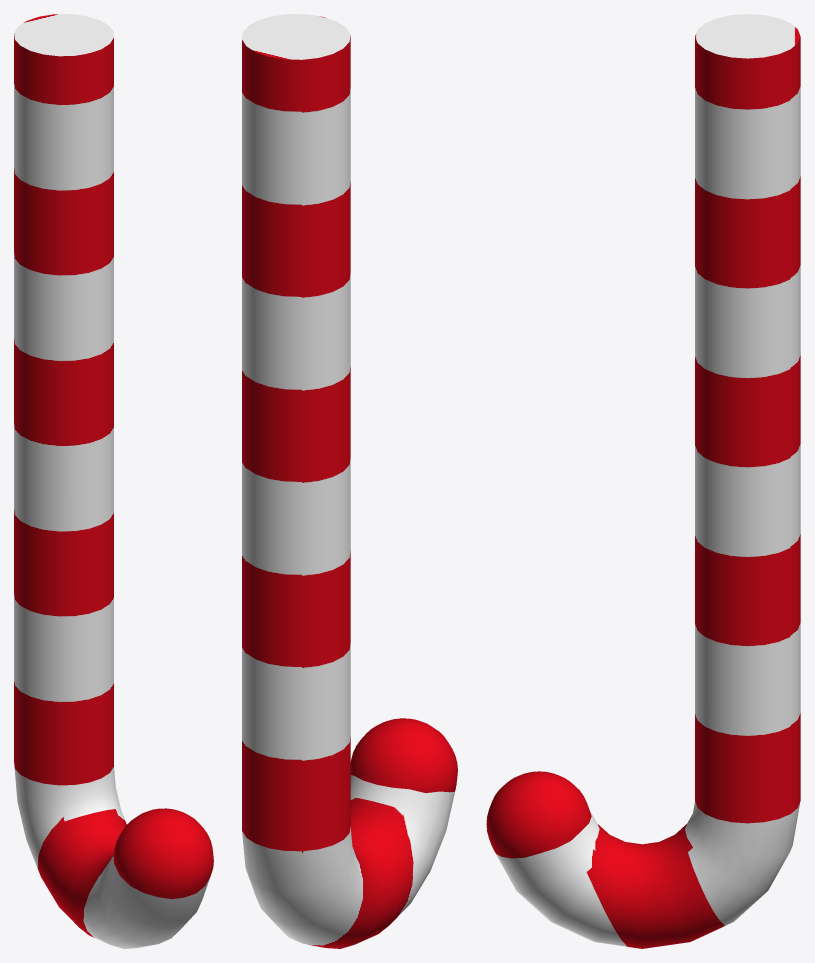
Rendered from redstick.fbx.
3 renders of one model, left to right at view 1: azimuth 30°, elevation 25°; view 2: azimuth 150°, elevation 25°; view 3: azimuth 270°, elevation 25°, orthographic. The views are drawn at different scales.
Parts seen in each view (by area): view 1: pSphere3; view 2: pSphere3; view 3: pSphere3.
Boxes of the visible parts, <box> form: pSphere3: <box>14,14,213,948</box>; pSphere3: <box>242,14,457,948</box>; pSphere3: <box>486,14,800,948</box>.
Size of the model in its own units: 2.01 by 19 by 5.95.
Materials: 1 (1 with a texture image).
